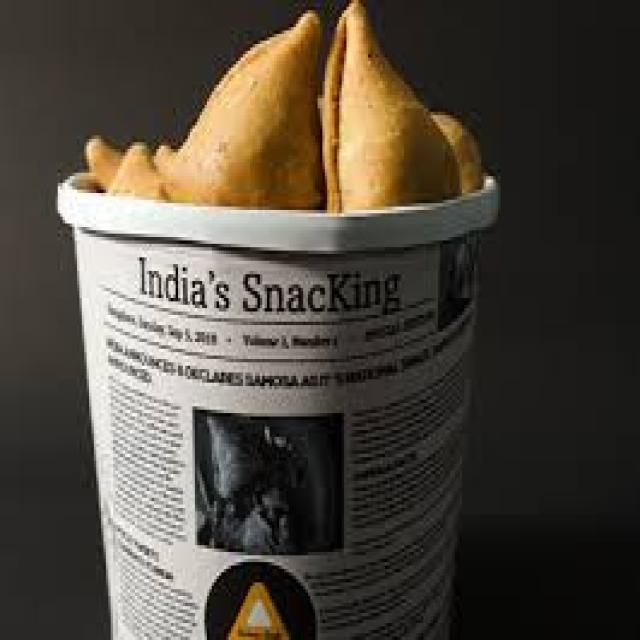SAMOSA: (147, 15, 329, 214), (323, 0, 466, 207)
